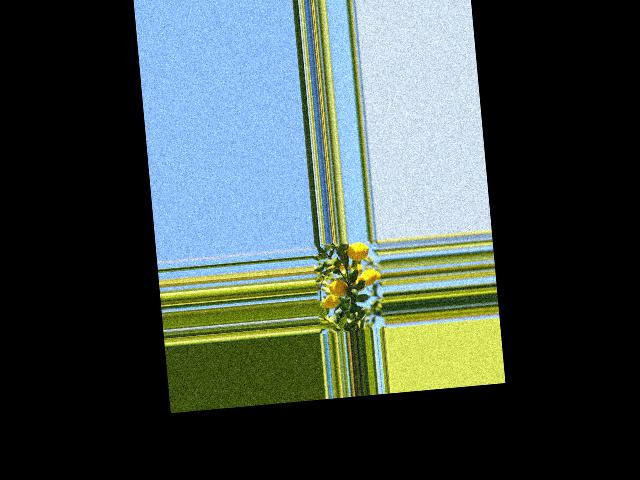lemon: (343, 240, 372, 263)
